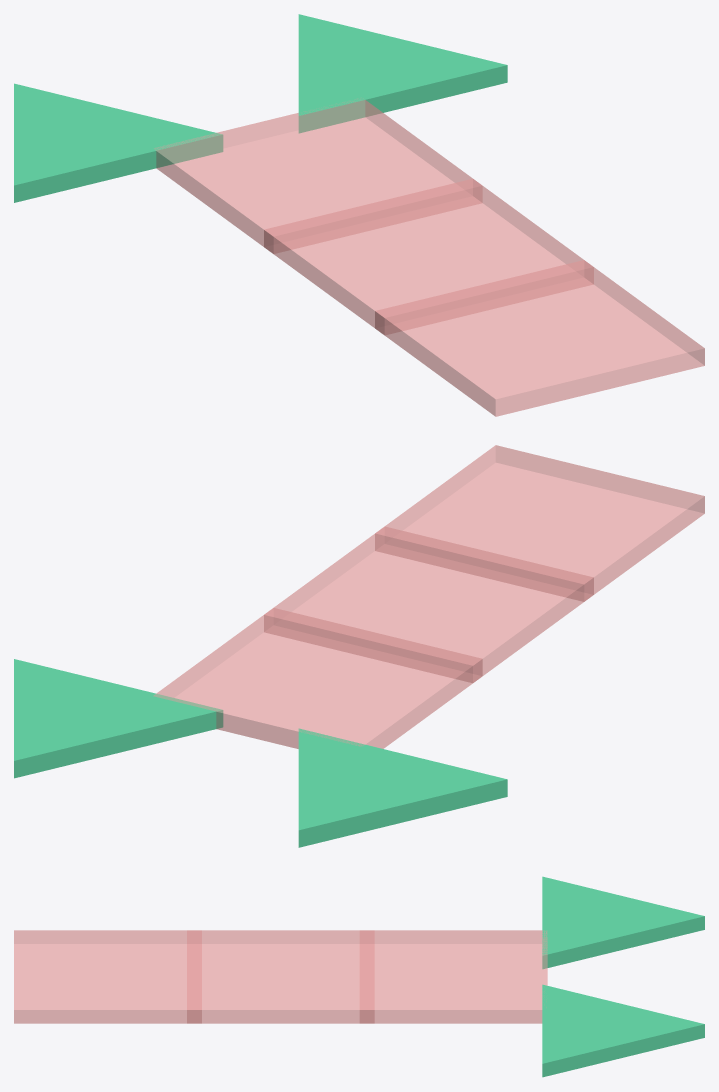
File: torre_step5.glb
3 renders of one model, top to bottom at view 1: azimuth 30°, elevation 25°; view 2: azimuth 150°, elevation 25°; view 3: azimuth 270°, elevation 25°, orthographic. The views are drawn at different scales.
Parts seen in each view (by area): view 1: quadrato_grande, quadrato_grande.001, quadrato_grande.002, triangolo_equilatero.001, triangolo_equilatero; view 2: quadrato_grande, quadrato_grande.001, quadrato_grande.002, triangolo_equilatero, triangolo_equilatero.001; view 3: quadrato_grande, quadrato_grande.001, quadrato_grande.002, triangolo_equilatero.001, triangolo_equilatero.
Boxes of the visible parts, left/top/right/bottom form: quadrato_grande: left=375, top=260, right=704, bottom=416; quadrato_grande.001: left=264, top=179, right=593, bottom=335; quadrato_grande.002: left=154, top=98, right=482, bottom=253; triangolo_equilatero.001: left=298, top=14, right=507, bottom=133; triangolo_equilatero: left=14, top=83, right=223, bottom=202; quadrato_grande: left=375, top=445, right=704, bottom=601; quadrato_grande.001: left=264, top=526, right=593, bottom=682; quadrato_grande.002: left=153, top=608, right=482, bottom=748; triangolo_equilatero: left=298, top=728, right=507, bottom=847; triangolo_equilatero.001: left=14, top=659, right=223, bottom=778; quadrato_grande: left=14, top=930, right=201, bottom=1023; quadrato_grande.001: left=187, top=930, right=374, bottom=1023; quadrato_grande.002: left=359, top=930, right=547, bottom=1023; triangolo_equilatero.001: left=542, top=984, right=704, bottom=1077; triangolo_equilatero: left=542, top=876, right=704, bottom=968.
Bounding box in the file's own units: 2.36 × 0.08 × 3.68.
